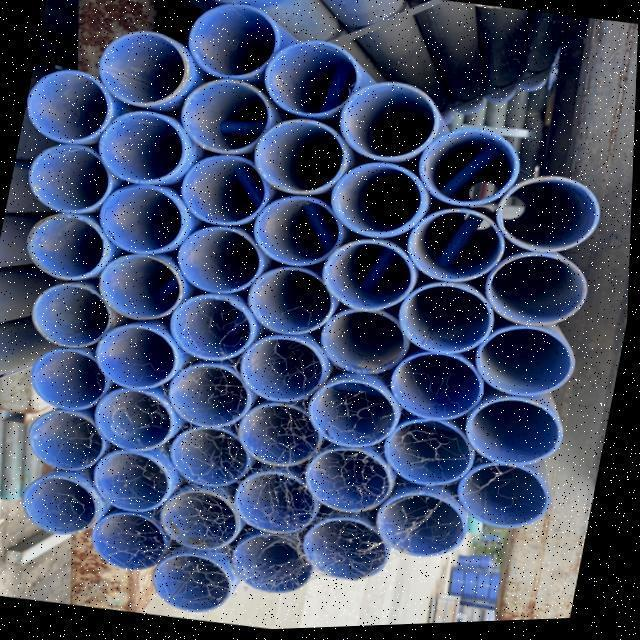pipe: (487, 248, 589, 334), (417, 126, 519, 211), (493, 178, 598, 260), (262, 34, 358, 123), (339, 85, 440, 168), (476, 331, 577, 405), (457, 457, 550, 537), (250, 122, 344, 200), (395, 286, 494, 359), (389, 349, 484, 425), (184, 5, 278, 81), (332, 166, 425, 242), (405, 213, 502, 285), (307, 376, 397, 453), (461, 404, 562, 472), (177, 155, 265, 232), (180, 83, 270, 158), (326, 240, 418, 313), (97, 114, 187, 187), (254, 198, 342, 272), (98, 32, 186, 105), (170, 290, 257, 363), (26, 71, 112, 144), (247, 268, 334, 340), (376, 495, 467, 563), (321, 308, 409, 378), (235, 400, 325, 468), (384, 421, 473, 489), (305, 448, 394, 516), (174, 229, 262, 297), (100, 183, 184, 254), (241, 336, 324, 407), (94, 325, 180, 392), (304, 521, 391, 587), (28, 143, 108, 214), (100, 254, 183, 322), (31, 282, 110, 352), (27, 212, 107, 281), (169, 365, 251, 431), (98, 387, 180, 452), (235, 471, 319, 534), (96, 450, 176, 515), (170, 426, 251, 489), (153, 552, 238, 612), (161, 489, 243, 550), (33, 347, 112, 410), (235, 534, 316, 595), (30, 408, 106, 473), (91, 510, 171, 569), (20, 475, 97, 536)
